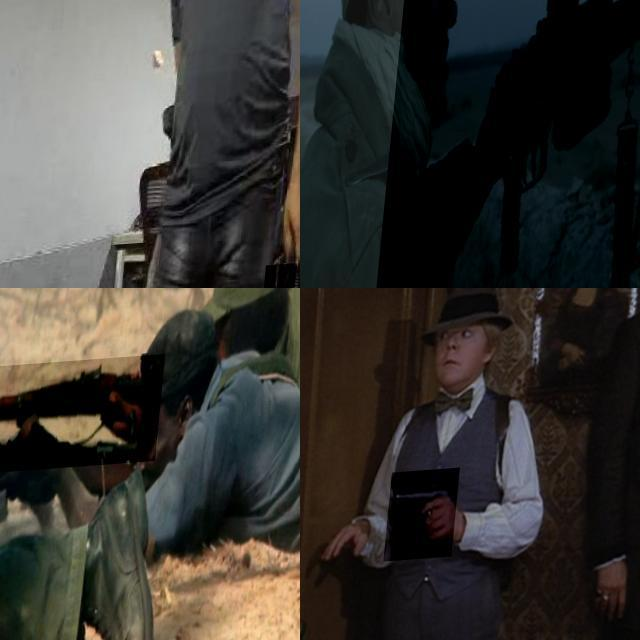gun-knife-thesis - v11 Yolov5 augmented: (378, 0, 640, 288), (0, 357, 170, 479), (392, 474, 467, 566)
